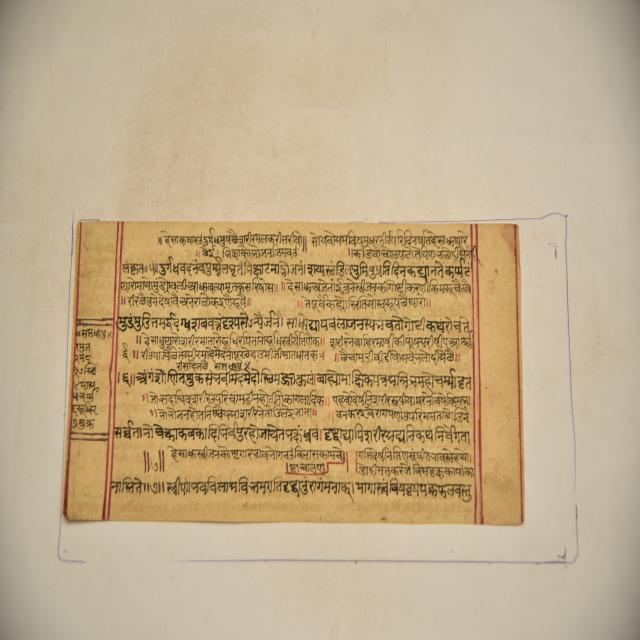text_paragraph: (62, 218, 521, 522)
